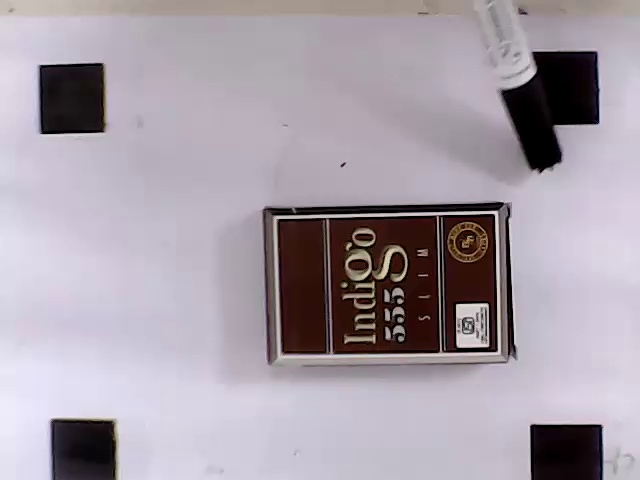BEX: (275, 214, 499, 354)
